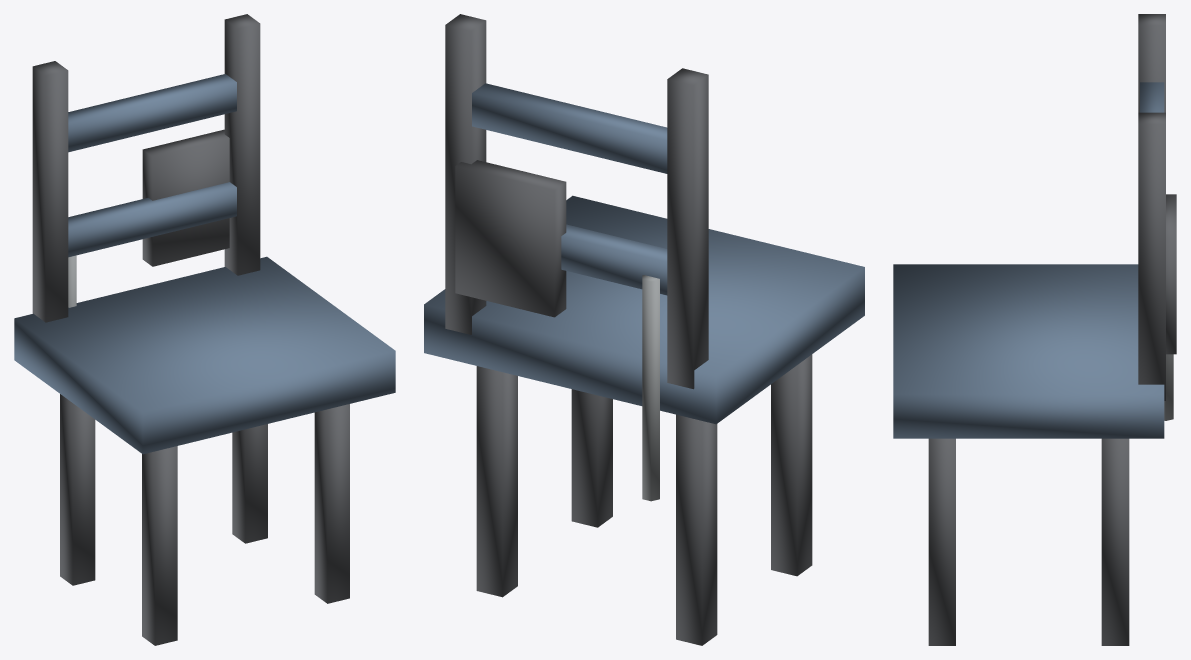
File: interview_chair__service.glb
3 views of the same model, side by side, from view 1: azimuth 30°, elevation 25°; view 2: azimuth 150°, elevation 25°; view 3: azimuth 270°, elevation 25° (orthographic). The views are drawn at different scales.
Parts seen in each view (by area): view 1: world; view 2: world; view 3: world.
Part boxes in pixels (box(x1,y1,x2,y2)): world: box(14, 14, 395, 645); world: box(424, 14, 864, 645); world: box(893, 14, 1176, 645).
Size of the model in its own units: 0.5037 by 0.9515 by 0.4637.
